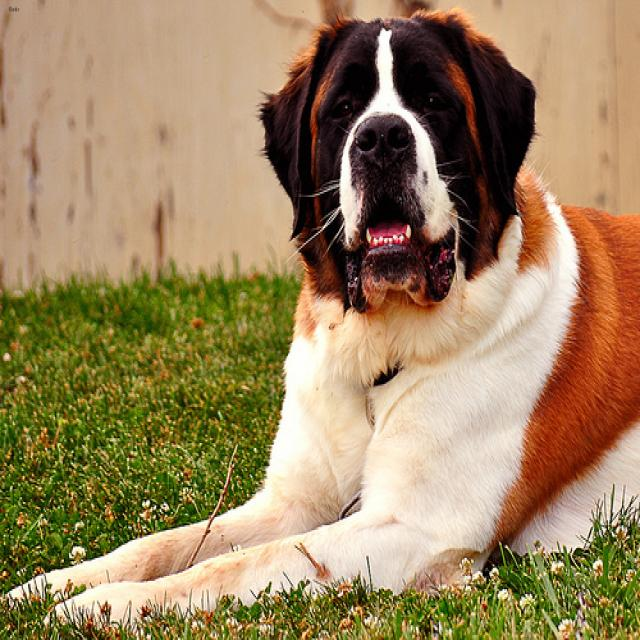dog-saint_bernard: (1, 2, 637, 637)
